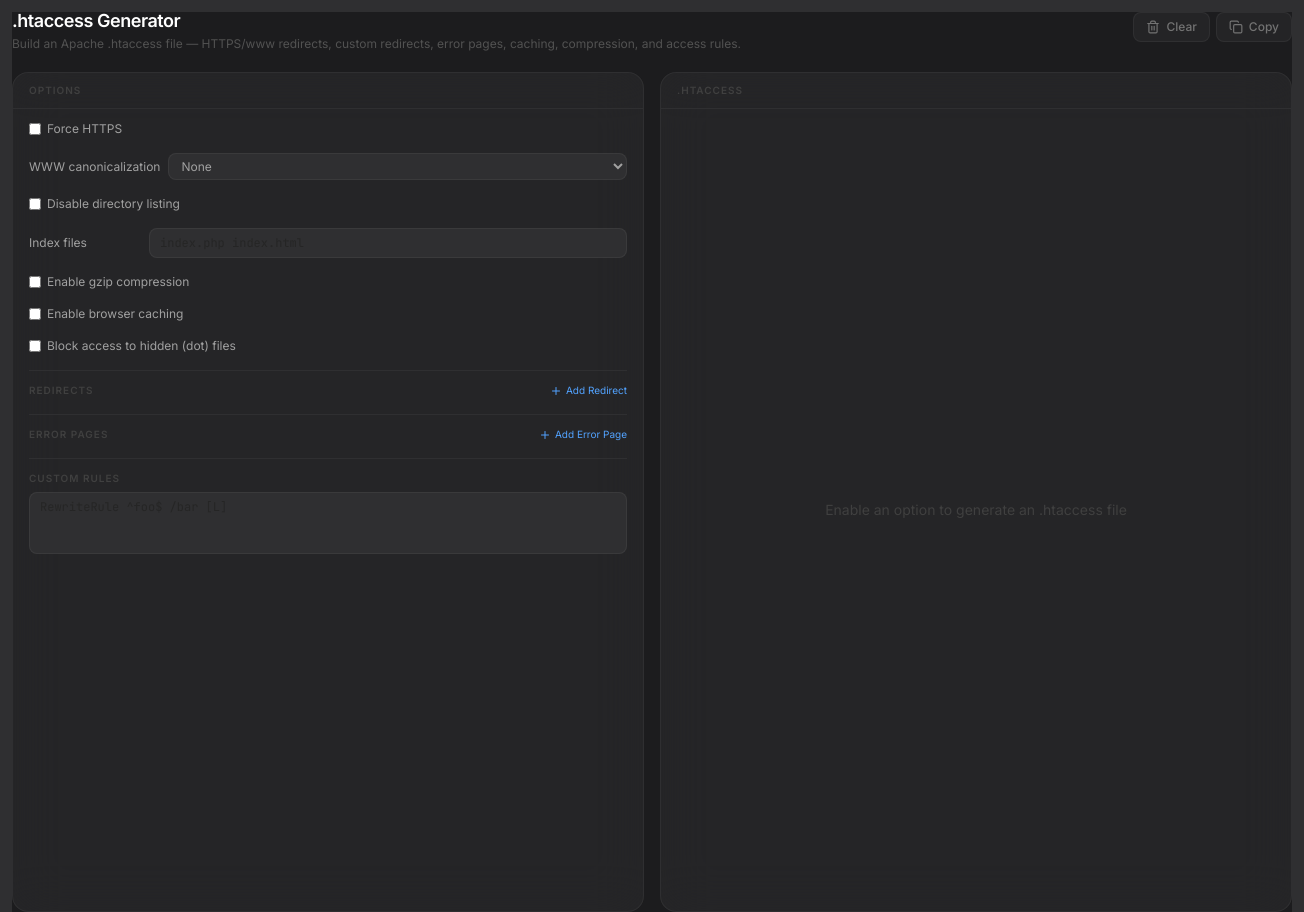
it: HtaccessGenerator › enables force-HTTPS redirect
This screenshot has width=1304, height=912.
Click the checkbox labelled "Force HTTPS" at (35, 129), box [29, 123, 41, 135]
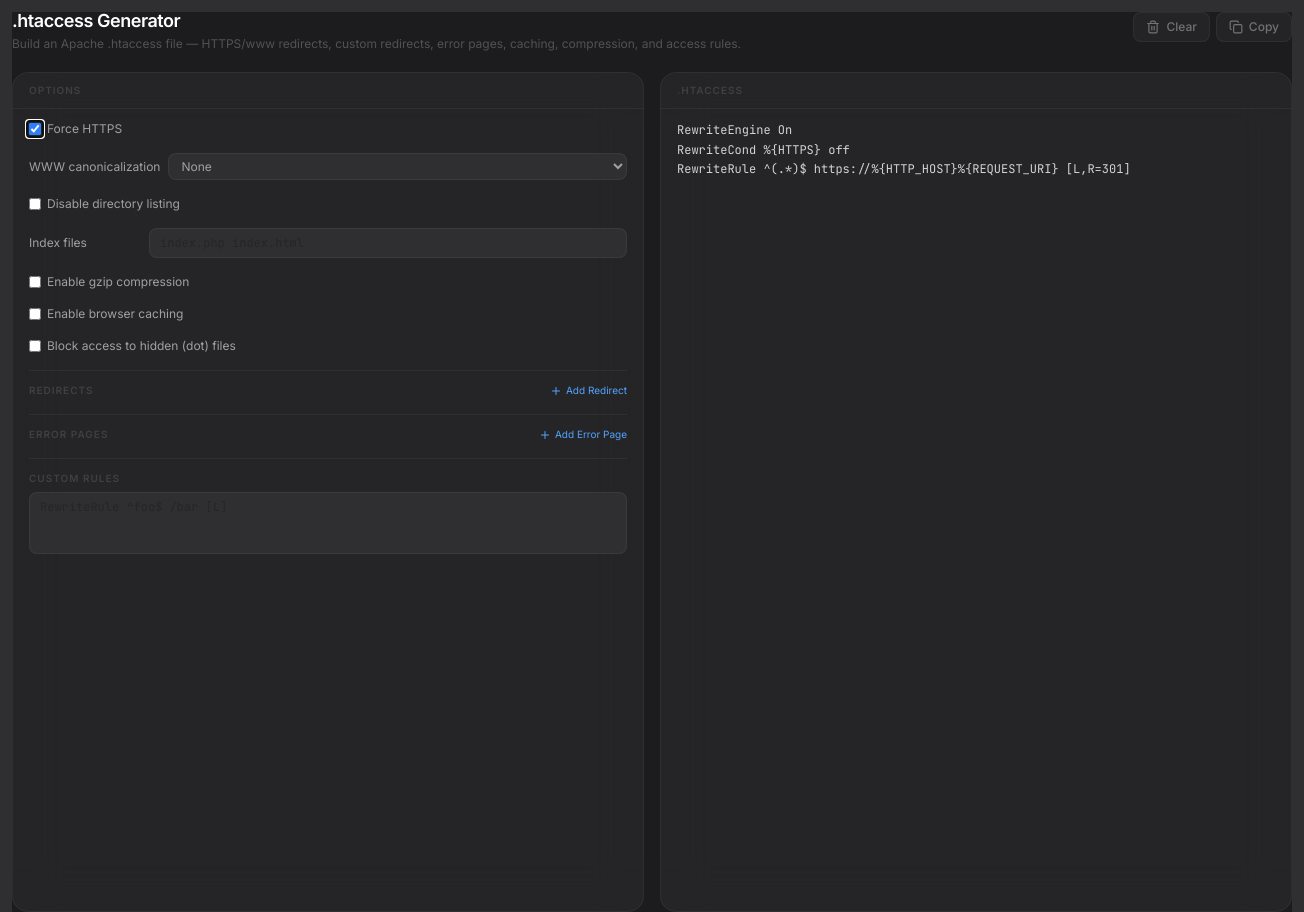
Now the text with test id "htaccess-output" shows "RewriteCond %{HTTPS} off", box [677, 122, 1131, 177]
